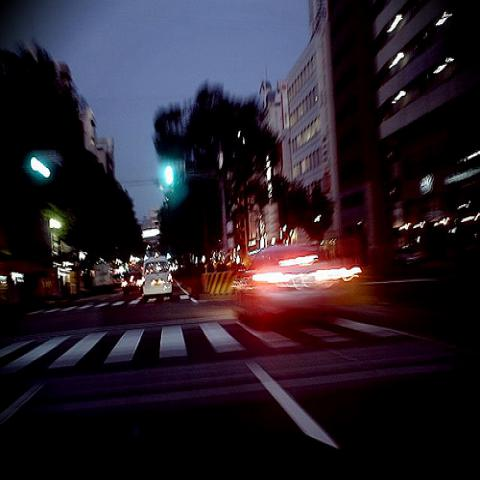car: (229, 243, 358, 334), (142, 255, 172, 294), (121, 273, 146, 292), (92, 271, 114, 292)
